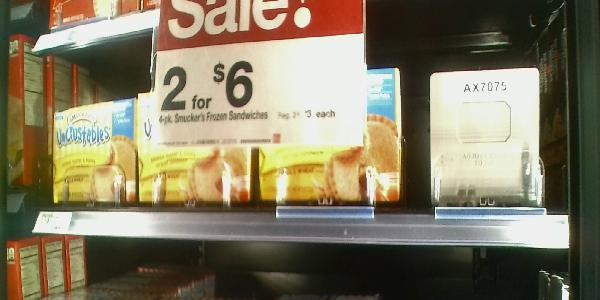icecream: (253, 65, 400, 210), (138, 90, 255, 204), (50, 96, 135, 204)
